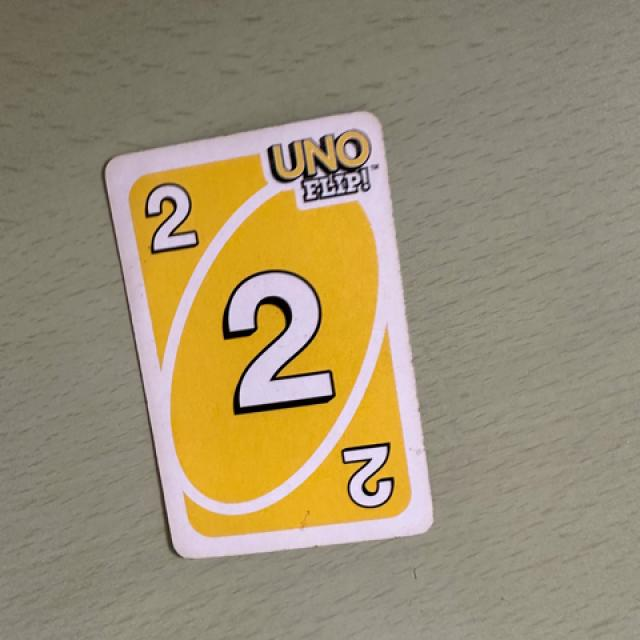lyellow-2: (130, 161, 226, 271)
